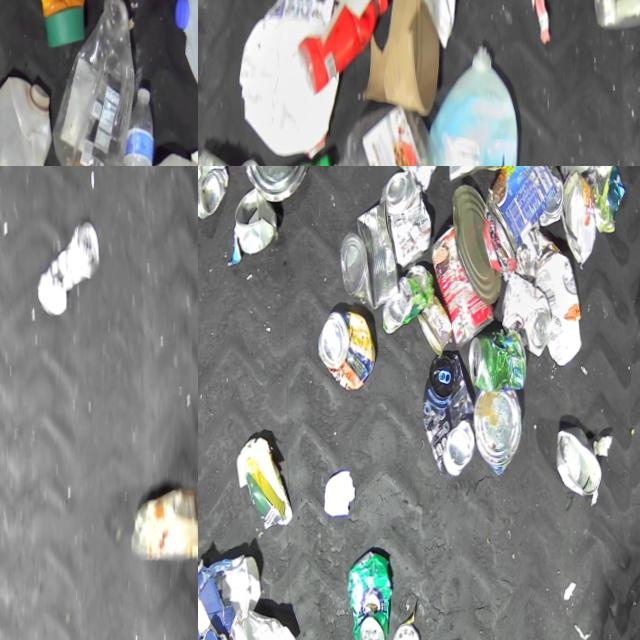can: (36, 215, 109, 333), (428, 224, 495, 350), (337, 201, 400, 314), (420, 355, 476, 481), (481, 166, 555, 256), (450, 185, 500, 308), (377, 171, 431, 271), (316, 310, 375, 394), (498, 272, 550, 362), (472, 391, 522, 480), (345, 551, 392, 640), (465, 330, 524, 397), (380, 265, 432, 336), (558, 171, 595, 269), (554, 429, 601, 506), (232, 186, 277, 254), (239, 166, 313, 207), (415, 296, 452, 358), (198, 166, 228, 221), (537, 168, 562, 231), (445, 166, 504, 185), (556, 166, 597, 184), (391, 624, 421, 640)
milk_jug: (236, 15, 341, 163), (0, 74, 54, 166), (169, 0, 198, 120)
non_white_jug: (416, 45, 521, 166)
plastic_bottle: (114, 90, 156, 166)
